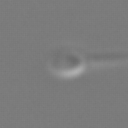normal: (83, 46, 128, 71)
